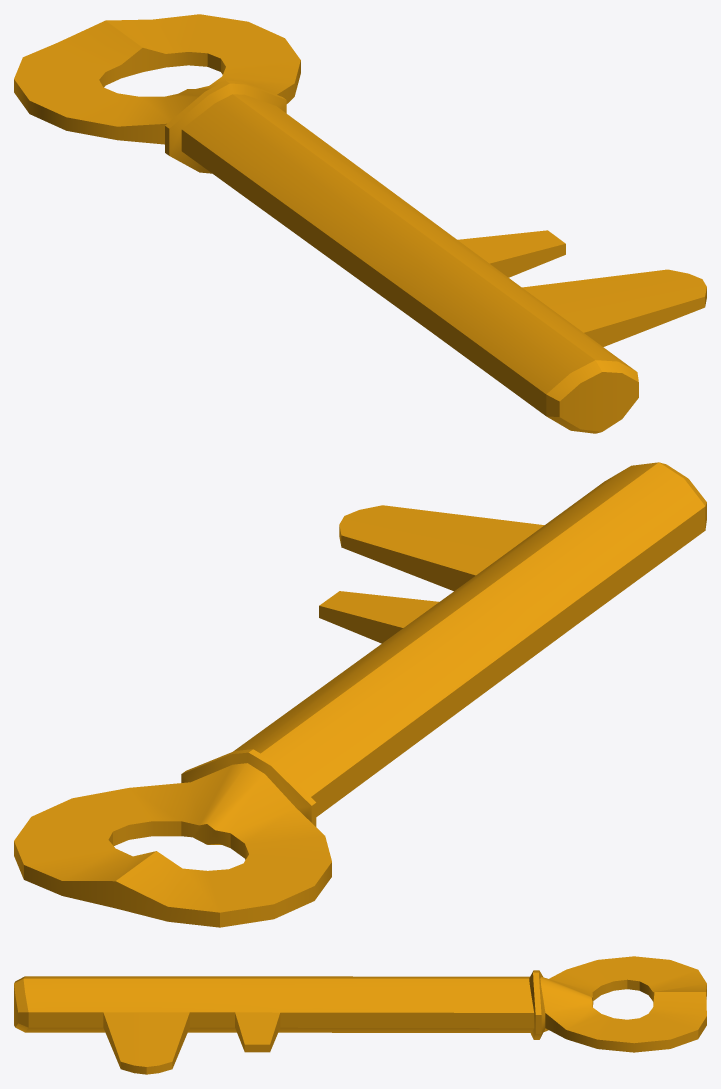
File: RedKey.fbx
3 views of the same model, one above another, from view 1: azimuth 30°, elevation 25°; view 2: azimuth 150°, elevation 25°; view 3: azimuth 270°, elevation 25° (orthographic). The views are drawn at different scales.
Visible parts, largest first — view 1: Circle; view 2: Circle; view 3: Circle.
Boxes of the visible parts, box(x1,y1,x2,y2) form: Circle: box(14, 14, 706, 433); Circle: box(14, 462, 706, 927); Circle: box(14, 956, 706, 1074).
Bounding box in the file's own units: 0.0698 × 0.1861 × 0.019.
